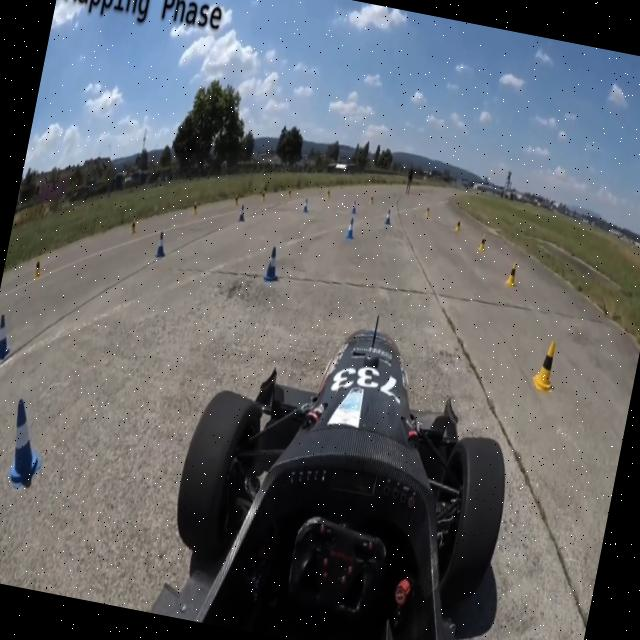blue_cone: (0, 392, 55, 493), (262, 247, 285, 286), (0, 312, 16, 367), (151, 230, 171, 264), (344, 215, 358, 242), (237, 202, 249, 224), (384, 208, 394, 228), (301, 198, 311, 215), (349, 198, 358, 216)
yellow_cone: (527, 339, 563, 396), (31, 253, 47, 284), (503, 262, 519, 288), (476, 232, 487, 254), (130, 216, 140, 238), (189, 202, 200, 220), (232, 192, 241, 208), (454, 217, 462, 234), (259, 189, 268, 204), (368, 193, 376, 206), (286, 186, 293, 200), (326, 187, 332, 201), (425, 205, 431, 218)
